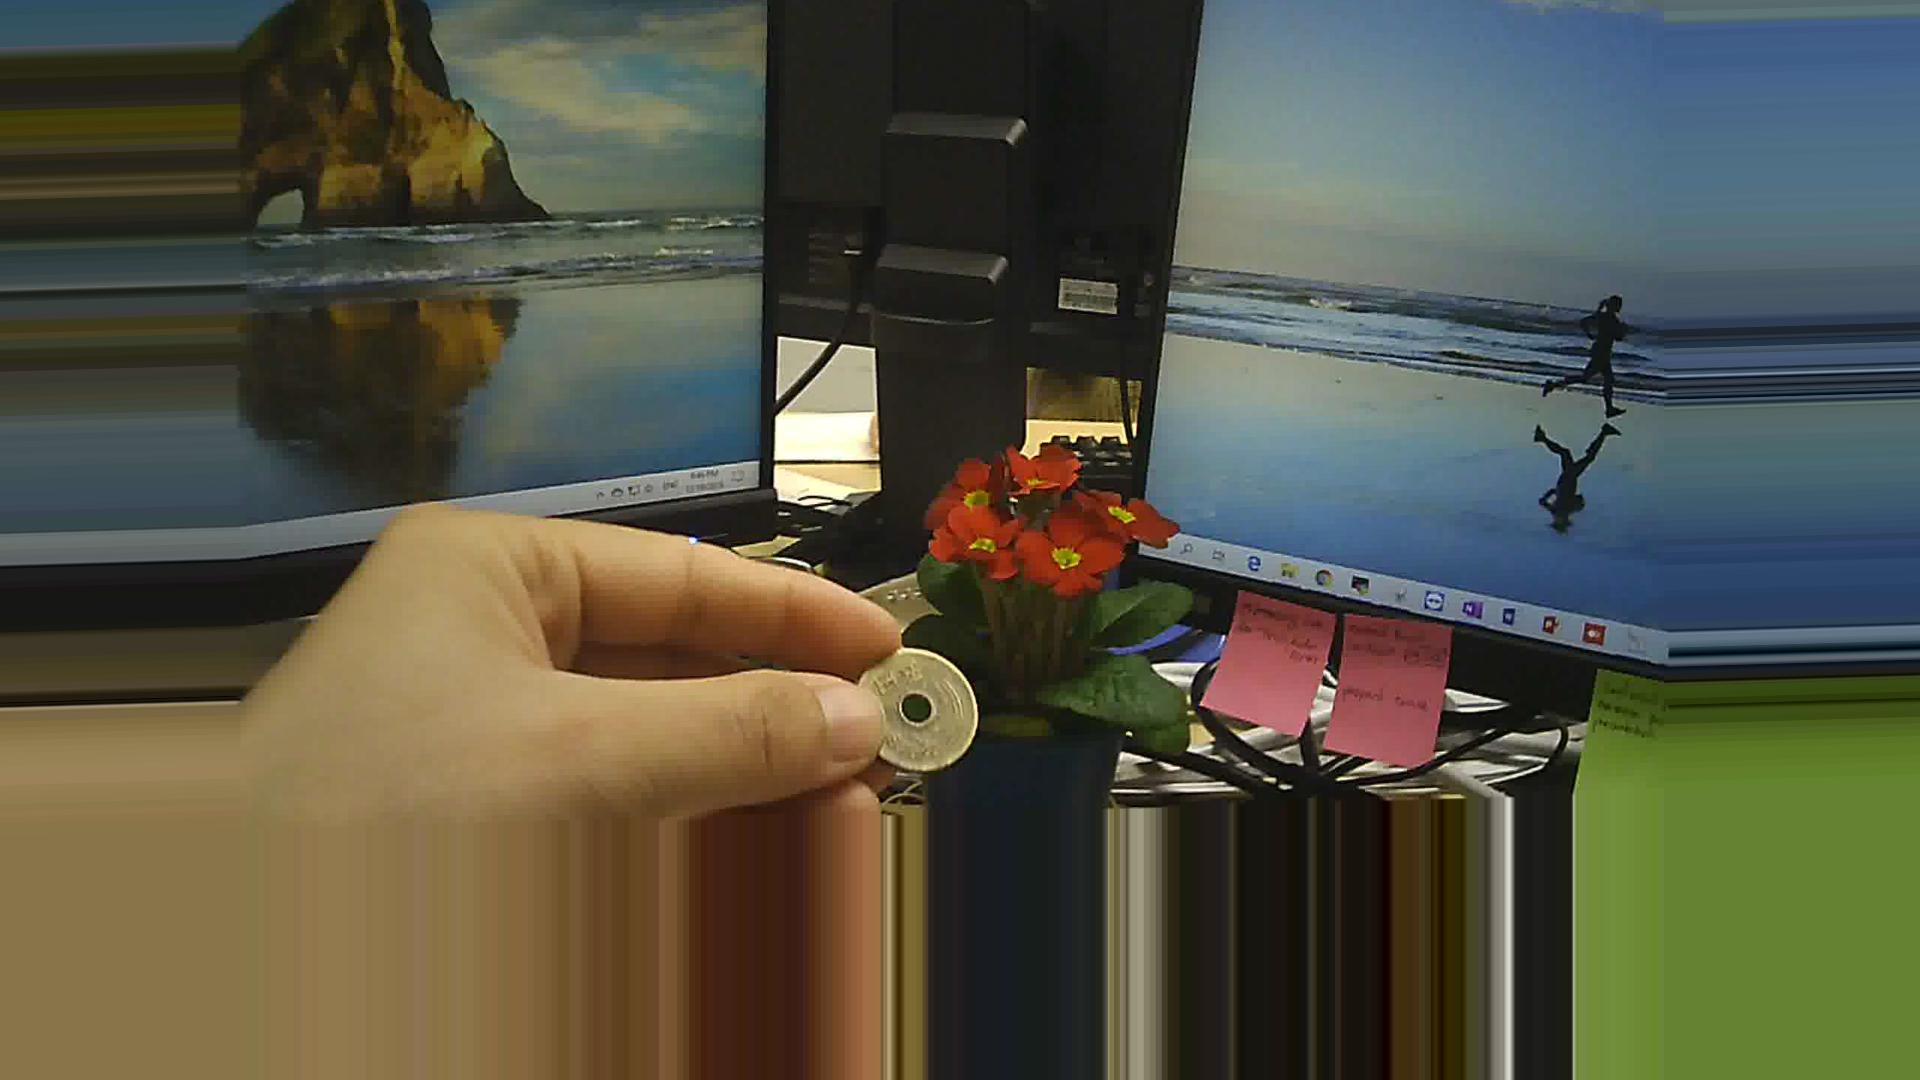5 Yen: (841, 629, 971, 771)
